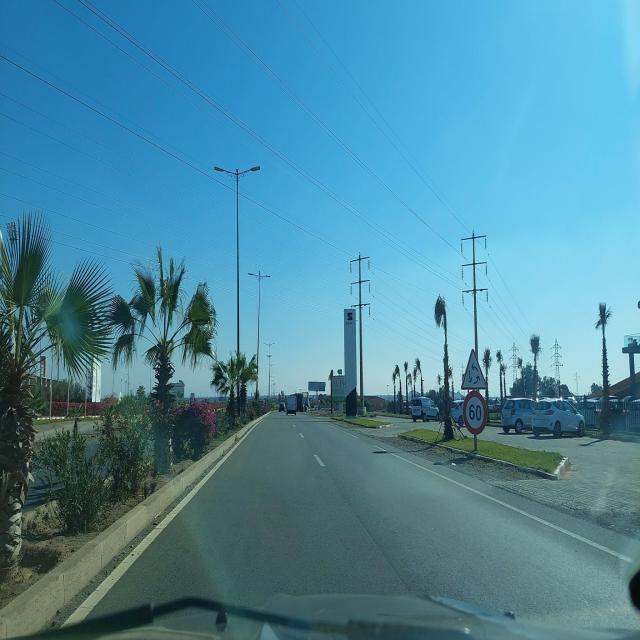car: (532, 398, 586, 438), (501, 398, 537, 434), (410, 396, 440, 422), (451, 399, 464, 428), (286, 394, 297, 416)
